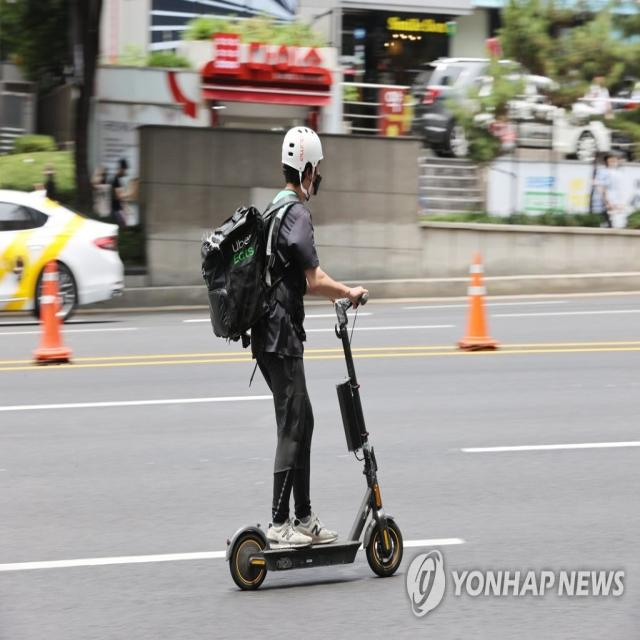helmet: (199, 120, 410, 596)
